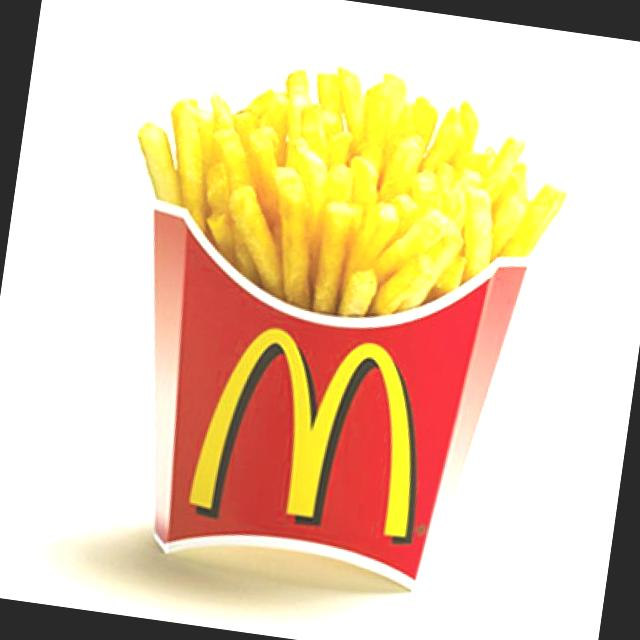French Fries: (132, 33, 575, 324)
